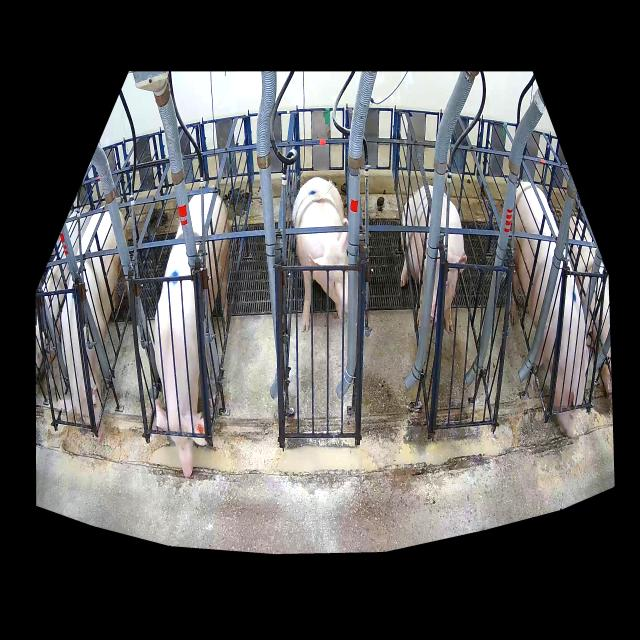pig: (154, 193, 230, 477), (510, 183, 589, 438), (53, 211, 130, 443), (401, 185, 467, 332), (293, 177, 348, 332)
